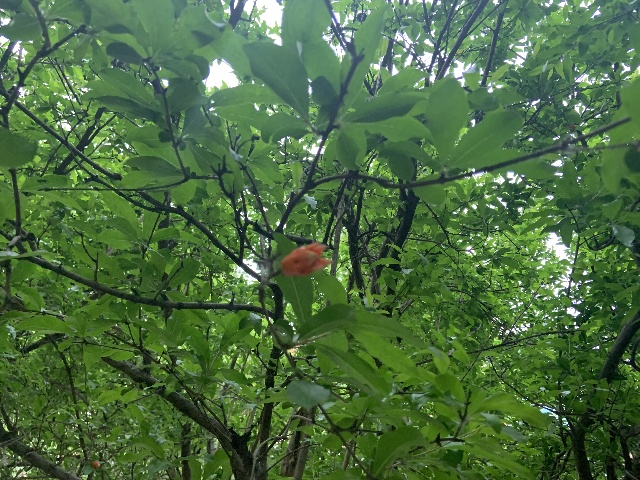bud: (92, 460, 100, 467)
flower: (279, 241, 332, 276)
